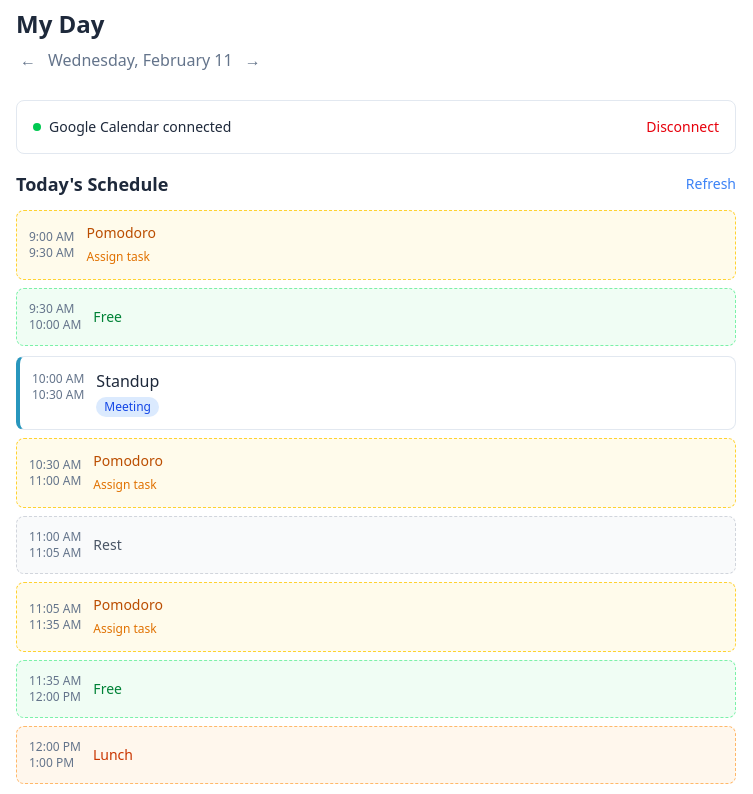
Test case: MyDay view — Task Assignment › shows plate tasks in the dropdown when Assign task is clicked
Click the button "Assign task" below "9:00 AM".
click(118, 257)  # box x1=86 y1=249 x2=150 y2=265
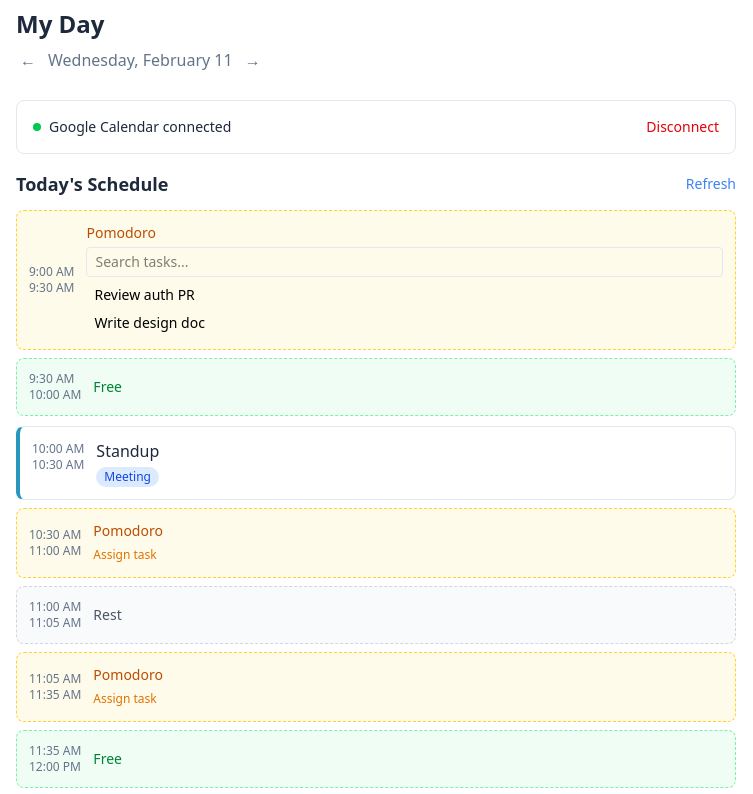
Now the text "Review auth PR" is shown, box x1=94 y1=285 x2=195 y2=304
Now the text "Write design doc" is shown, box x1=94 y1=313 x2=205 y2=332
